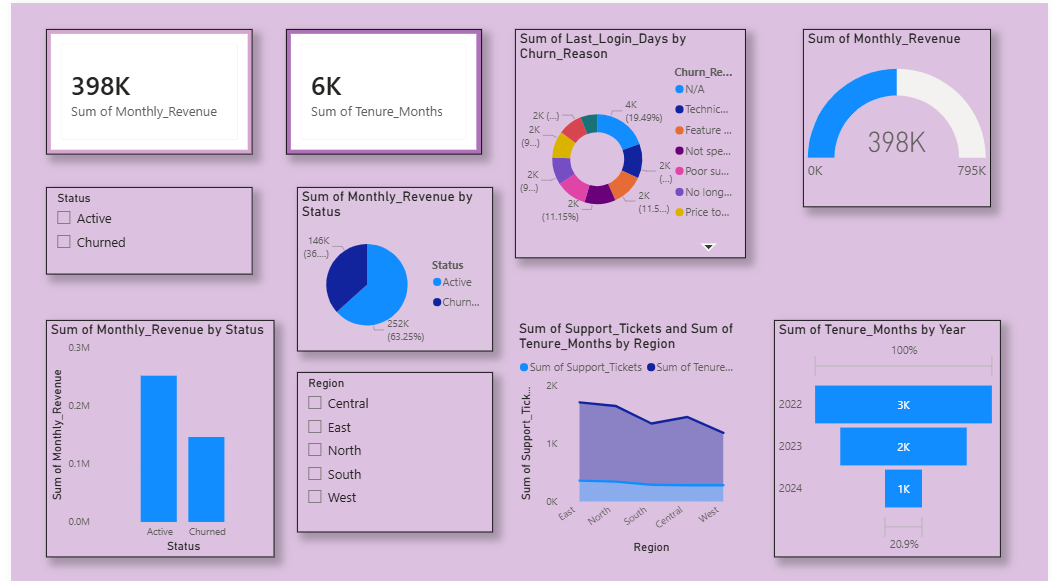

The dashboard page shown, as its layout file describes it:
{"tool":"powerbi","page":{"name":"Page 1","canvas":[1280,720],"ordinal":0},"visuals":[{"type":"lineStackedColumnComboChart","fields":{"Category":["Customer_Data.Status"],"Y":["Sum(Customer_Data.Monthly_Revenue)"]},"box":[43.3,391.7,281.7,293.3],"z":1},{"type":"donutChart","fields":{"Category":["Customer_Data.Churn_Reason"],"Y":["Sum(Customer_Data.Last_Login_Days)"]},"box":[621.7,31.7,285,283.3],"z":2},{"type":"stackedAreaChart","fields":{"Category":["Customer_Data.Region"],"Y":["Sum(Customer_Data.Support_Tickets)","Sum(Customer_Data.Tenure_Months)"]},"box":[621.7,391.7,280,293.3],"z":3},{"type":"gauge","fields":{"Y":["Sum(Customer_Data.Monthly_Revenue)"]},"box":[978.3,31.7,231.7,220],"z":4},{"type":"funnel","fields":{"Category":["Customer_Data.Start_Date.Variation.Date Hierarchy.Year","Customer_Data.Start_Date.Variation.Date Hierarchy.Quarter","Customer_Data.Start_Date.Variation.Date Hierarchy.Month","Customer_Data.Start_Date.Variation.Date Hierarchy.Day"],"Y":["Sum(Customer_Data.Tenure_Months)"]},"box":[941.7,391.7,280,293.3],"z":5},{"type":"cardVisual","fields":{"Data":["Sum(Customer_Data.Monthly_Revenue)"]},"box":[43.3,31.7,255,155],"z":6},{"type":"cardVisual","fields":{"Data":["Sum(Customer_Data.Tenure_Months)"]},"box":[340,31.7,241.7,155],"z":7},{"type":"slicer","fields":{"Values":["Customer_Data.Status"]},"box":[43.3,226.7,255,108.3],"z":8},{"type":"pieChart","fields":{"Category":["Customer_Data.Status"],"Y":["Sum(Customer_Data.Monthly_Revenue)"]},"box":[353.3,226.7,241.7,203.3],"z":9},{"type":"slicer","fields":{"Values":["Customer_Data.Region"]},"box":[353.3,455,241.7,198.3],"z":10}]}

Visuals, with their boxes in screenshot pixels (x1, y1, x2, y2), scaled from the page's 1280x720 canvas onto the 1052x581 screenshot:
lineStackedColumnComboChart - Customer_Data.Status x Sum(Customer_Data.Monthly_Revenue): (left=36, top=316, right=267, bottom=553)
donutChart - Customer_Data.Churn_Reason x Sum(Customer_Data.Last_Login_Days): (left=511, top=26, right=745, bottom=254)
stackedAreaChart - Customer_Data.Region x Sum(Customer_Data.Support_Tickets): (left=511, top=316, right=741, bottom=553)
gauge - Sum(Customer_Data.Monthly_Revenue): (left=804, top=26, right=994, bottom=203)
funnel - Customer_Data.Start_Date.Variation.Date Hierarchy.Year x Customer_Data.Start_Date.Variation.Date Hierarchy.Quarter: (left=774, top=316, right=1004, bottom=553)
cardVisual - Sum(Customer_Data.Monthly_Revenue): (left=36, top=26, right=245, bottom=151)
cardVisual - Sum(Customer_Data.Tenure_Months): (left=279, top=26, right=478, bottom=151)
slicer - Customer_Data.Status: (left=36, top=183, right=245, bottom=270)
pieChart - Customer_Data.Status x Sum(Customer_Data.Monthly_Revenue): (left=290, top=183, right=489, bottom=347)
slicer - Customer_Data.Region: (left=290, top=367, right=489, bottom=527)
